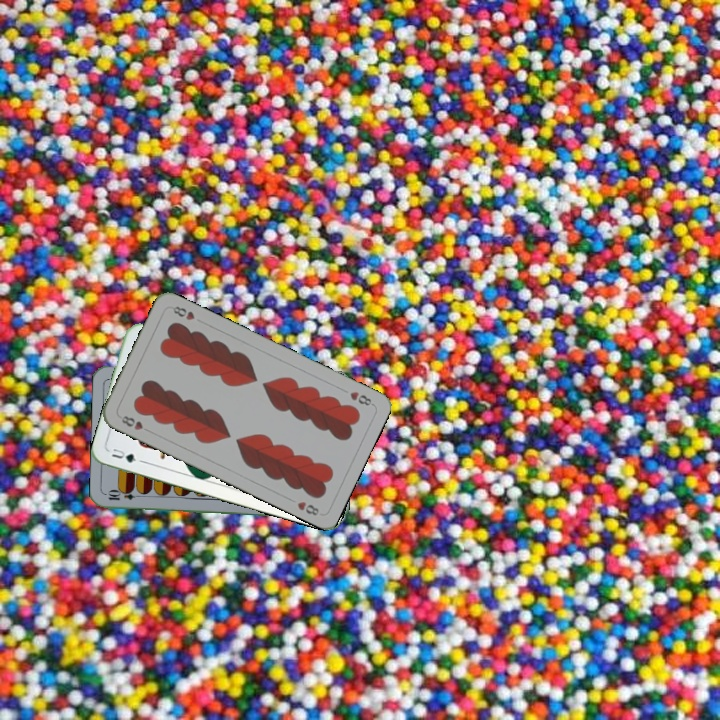E10: (104, 489, 145, 503)
GU: (108, 444, 145, 465)
H8: (117, 411, 153, 435), (346, 387, 376, 408)
